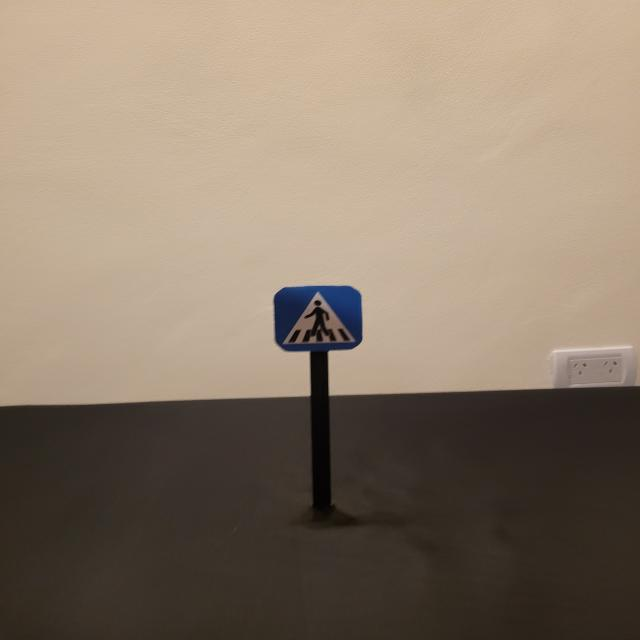crosswalk: (270, 283, 366, 354)
